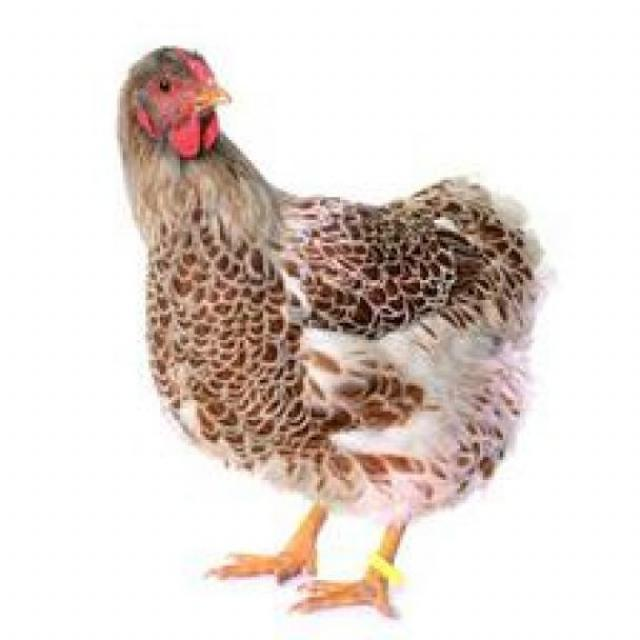Chicken: (99, 33, 554, 632)
